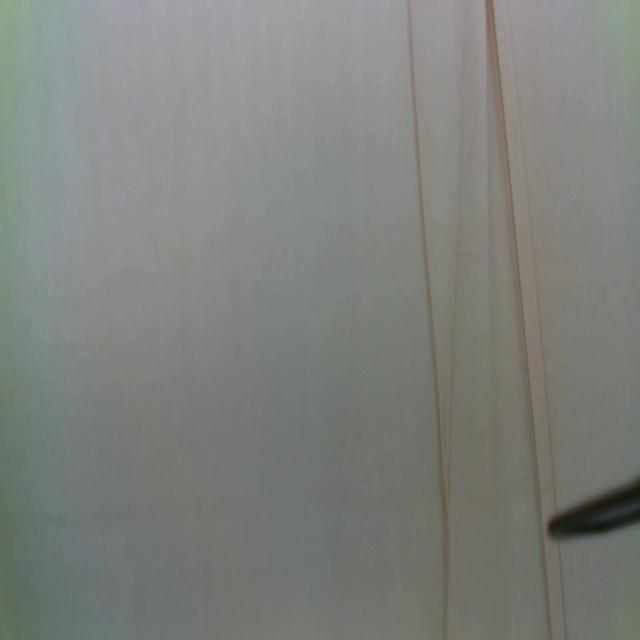crease: (484, 0, 559, 511), (406, 0, 451, 640), (542, 540, 568, 640)
